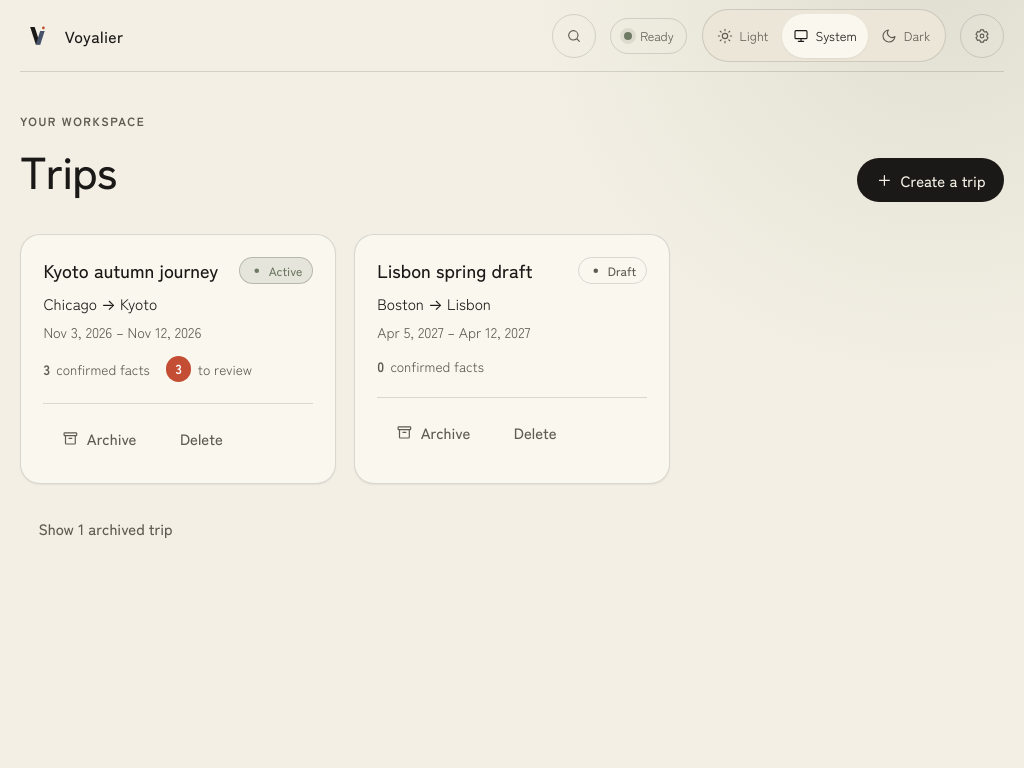
Test: Today device calendar date › does not repeat requests when focus and page resume keep the same date
The width and height of the screenshot is (1024, 768).
Click the button with aria-label "Open Kyoto autumn journey" at (131, 270), box [43, 257, 218, 283]
(page scrolled)
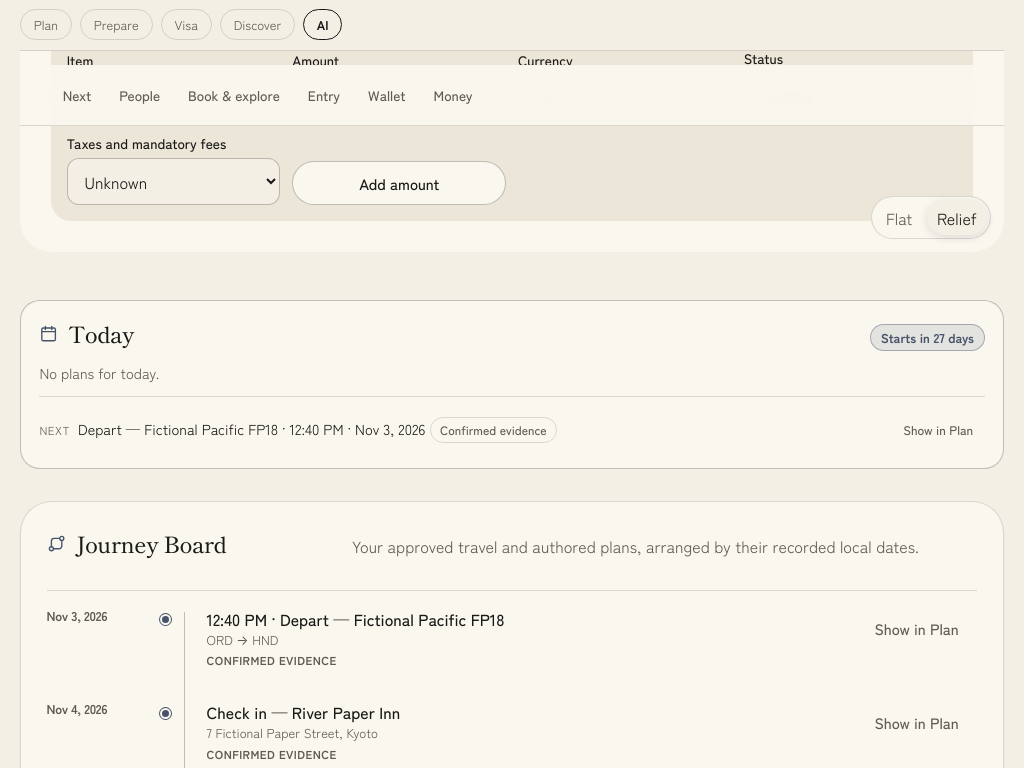
Result: the element "Today" is shown at [20, 300, 1004, 469]
